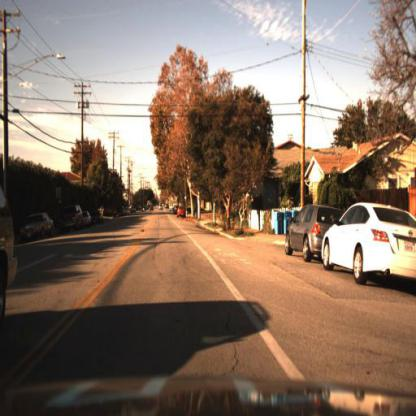car: (321, 202, 416, 291), (284, 203, 348, 265), (278, 190, 324, 269), (18, 211, 56, 239), (59, 203, 85, 237), (58, 205, 84, 237), (93, 205, 107, 228), (83, 206, 93, 232), (178, 206, 190, 220), (117, 205, 127, 220), (148, 202, 158, 217), (157, 201, 167, 213), (172, 204, 180, 216)
